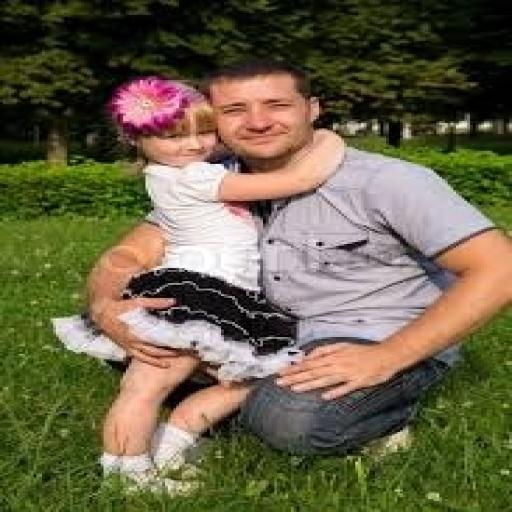hugging: (76, 58, 509, 493)
